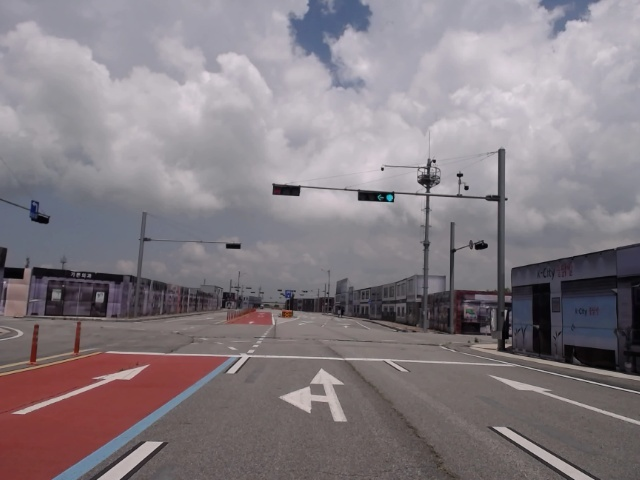all_green_4: (359, 190, 396, 204)
